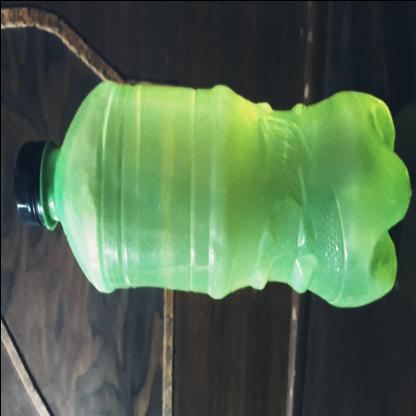bottle: (61, 19, 193, 416)
